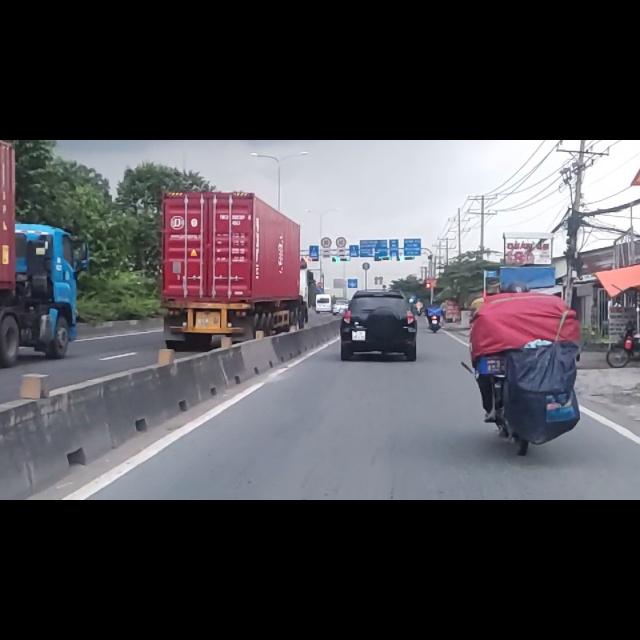bien_cam: (334, 171, 347, 194), (321, 172, 332, 192)
